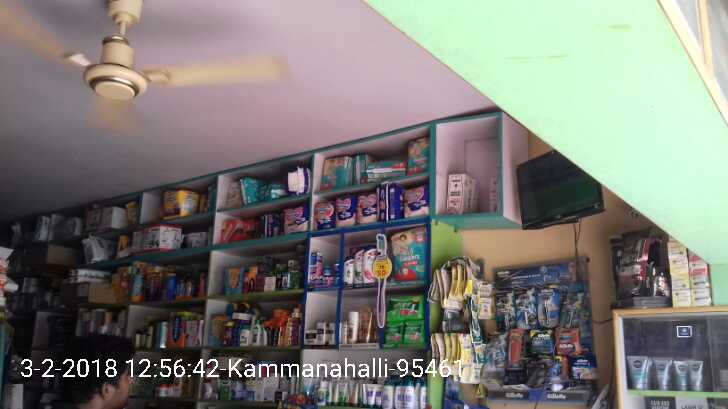beauty: (351, 245, 363, 286), (359, 307, 371, 341), (347, 308, 358, 343), (316, 321, 326, 346), (345, 256, 353, 287), (305, 328, 318, 346), (328, 321, 335, 345)
pharmacy: (390, 225, 427, 279), (317, 156, 350, 186), (387, 294, 425, 319), (365, 158, 405, 179), (404, 140, 429, 170), (400, 322, 427, 347), (382, 322, 401, 348), (350, 156, 365, 185)
